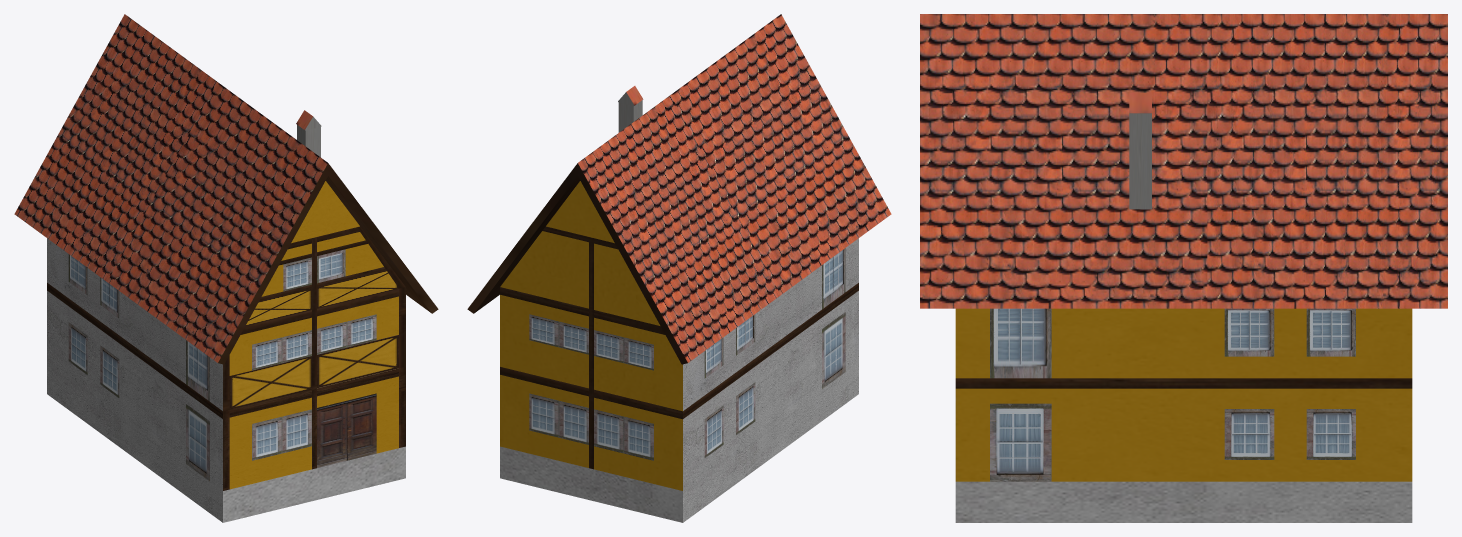
File: sb_villagehouse_fairytale_mj.fbx
3 renders of one model, left to right at view 1: azimuth 30°, elevation 25°; view 2: azimuth 150°, elevation 25°; view 3: azimuth 270°, elevation 25°, orthographic. The views are drawn at different scales.
Visible parts, largest first — view 1: sb_villagehouse_fairytale_mj; view 2: sb_villagehouse_fairytale_mj; view 3: sb_villagehouse_fairytale_mj.
Boxes of the visible parts, x1,y1,x2,y2 form: sb_villagehouse_fairytale_mj: [14, 14, 438, 522]; sb_villagehouse_fairytale_mj: [467, 14, 891, 522]; sb_villagehouse_fairytale_mj: [920, 14, 1447, 522].
Bounding box in the file's own units: 7.24 × 10.91 × 11.57.
